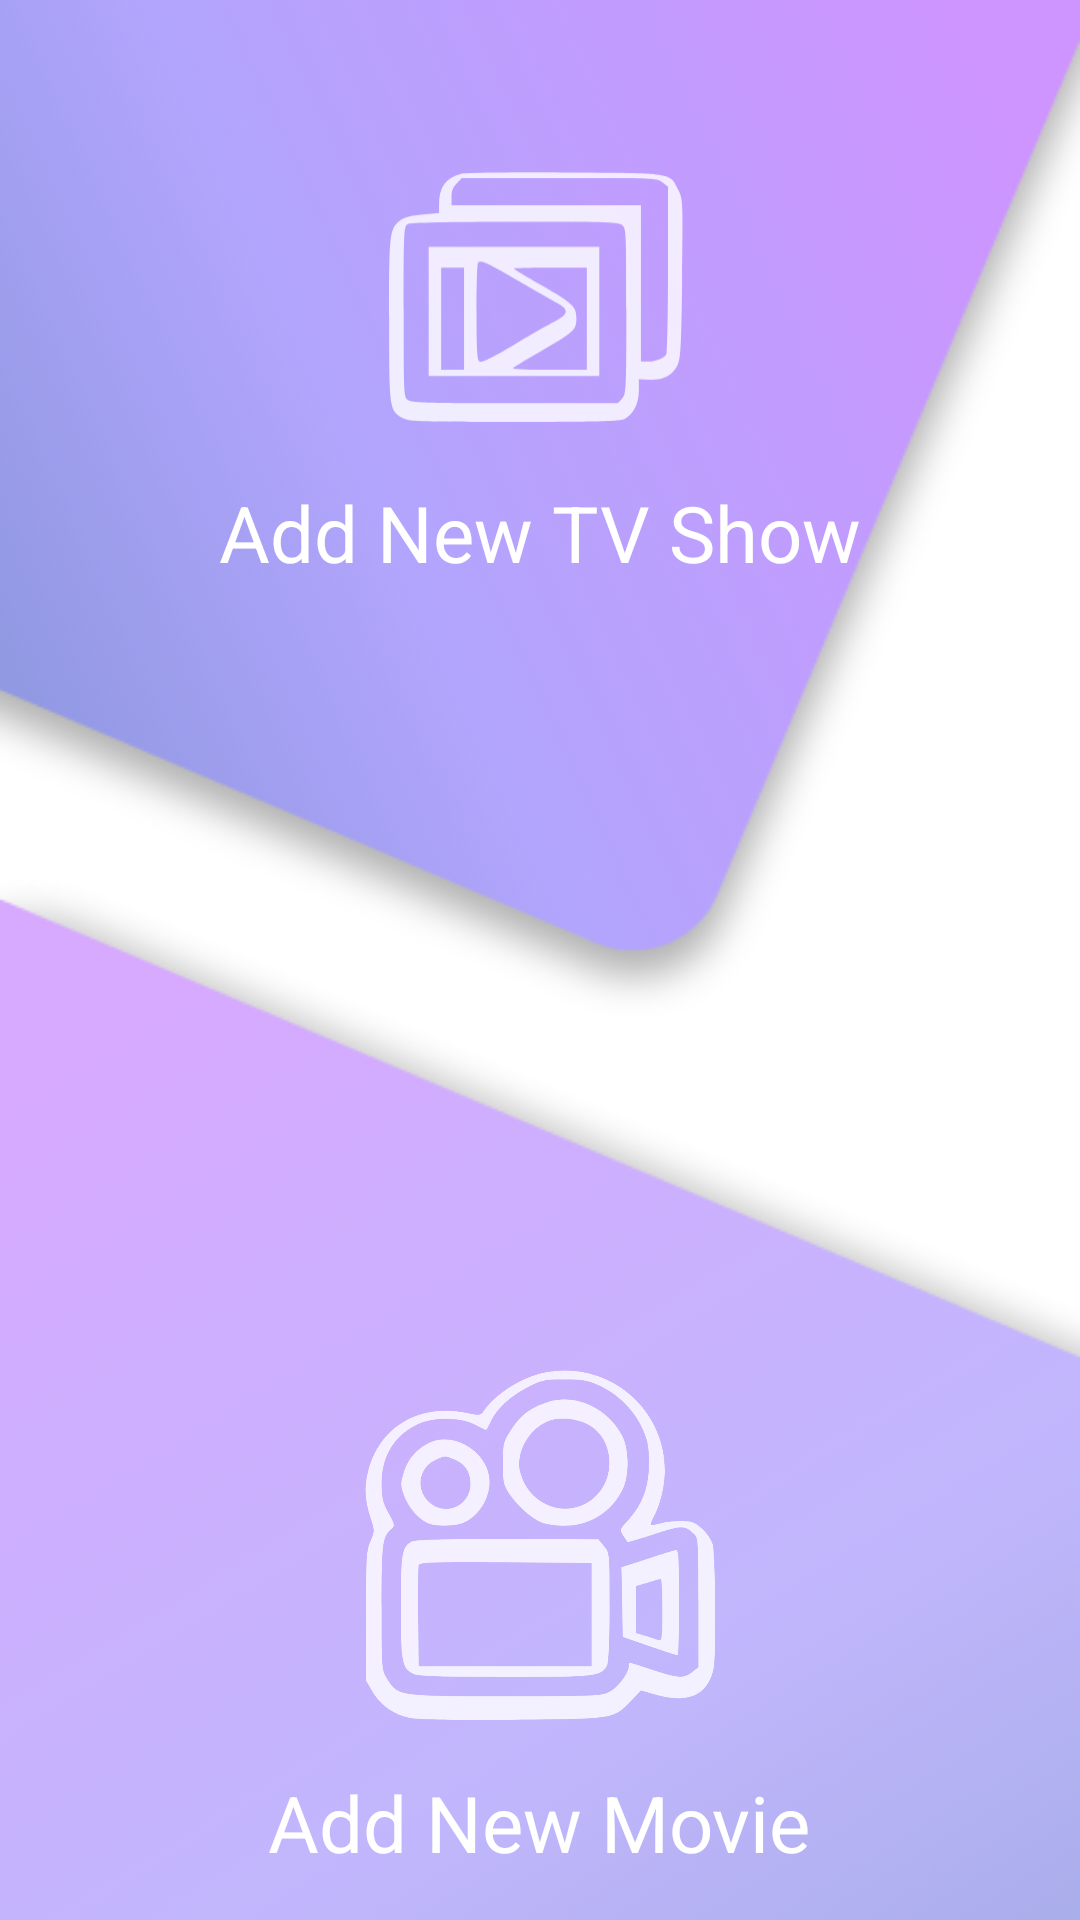

Icon click points for this 1080px×1920px phone screenshot, format [x,y]:
movieiconw: [540,1545]
seriesiconw: [536,297]
